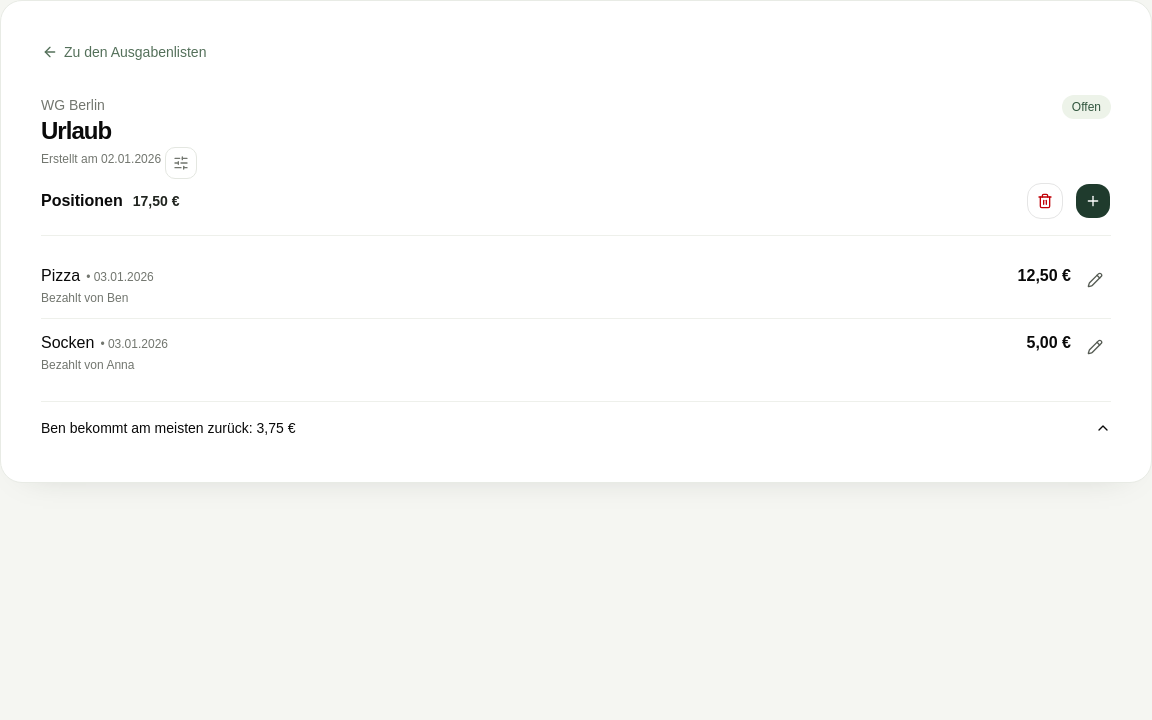
Scenario: ExpenseListDetail › löscht eine Position erst nach Bestätigung
Check: the button "Position löschen" is not shown
Click the button named "Löschen aktivieren": (1045, 201) [1027,183,1063,219]
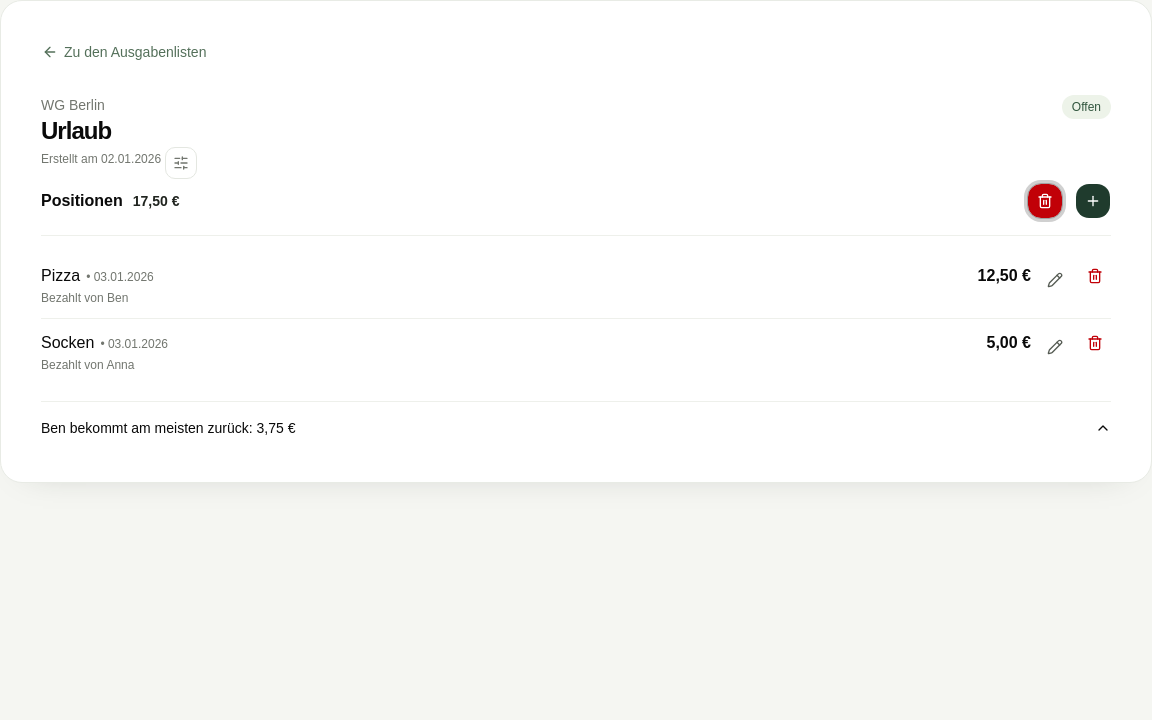
Click the button named "Position löschen: Socken": (1095, 343) [1079,327,1111,359]
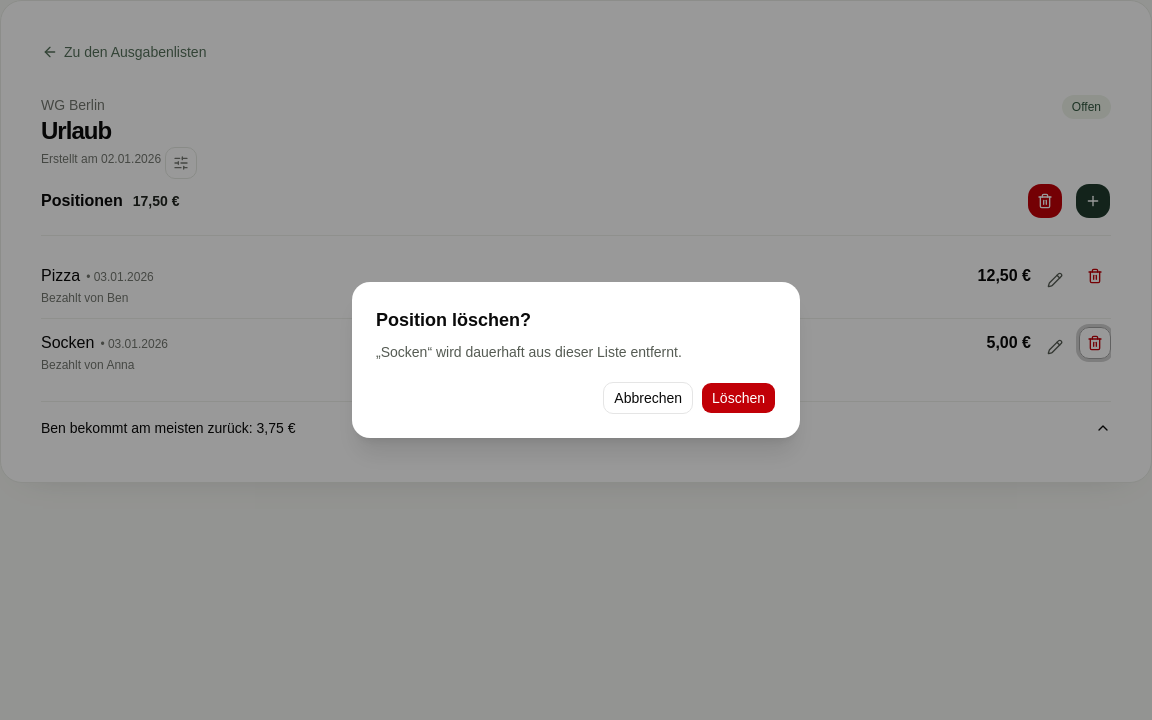
Check: the dialog is shown, box [352,282,800,438]
Click the button "Löschen": (739, 398) [701,382,776,414]
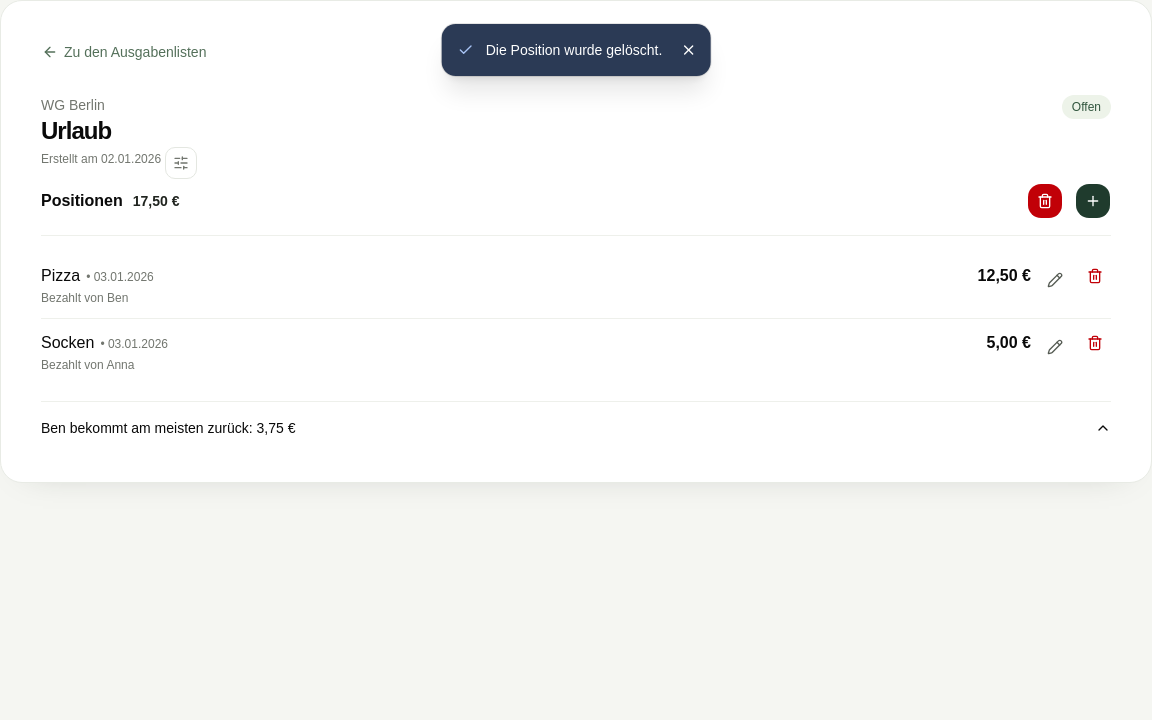
Check: the text "Die Position wurde gelöscht." is shown, box [486,40,662,60]
